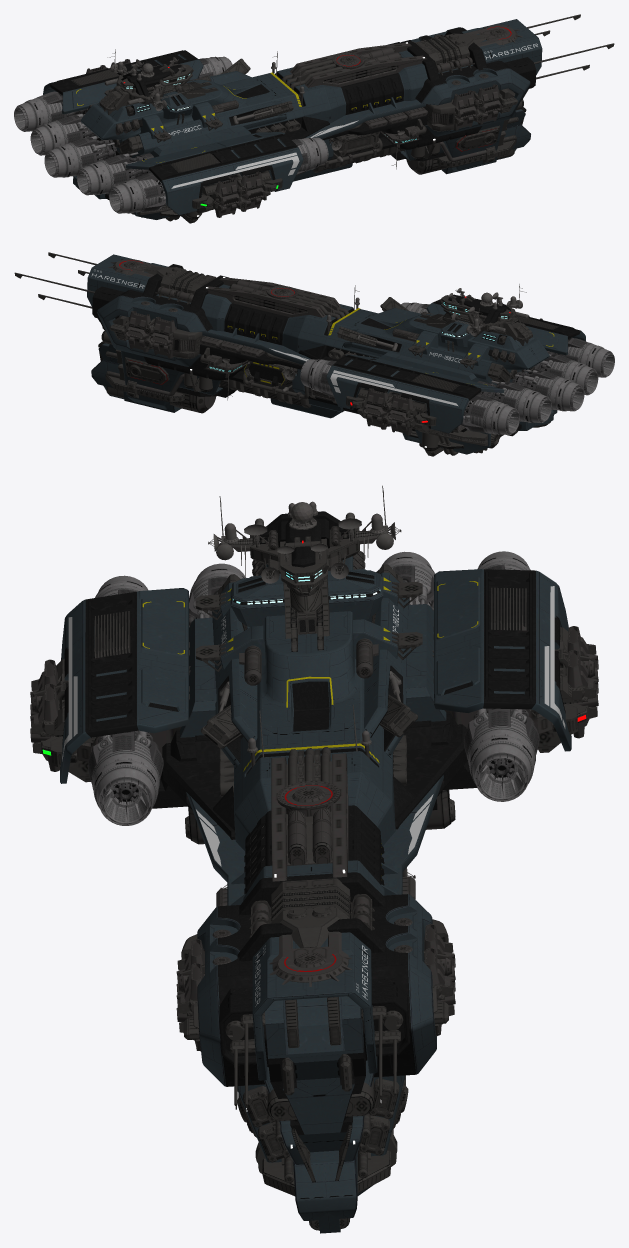
The model's file is harbinger-detail.glb.
3 renders of one model, top to bottom at view 1: azimuth 30°, elevation 25°; view 2: azimuth 150°, elevation 25°; view 3: azimuth 270°, elevation 25°, orthographic. The views are drawn at different scales.
Visible parts, largest first — view 1: harbinger; view 2: harbinger; view 3: harbinger.
Part boxes in pixels (x1,y1,x2,y2): harbinger: (14, 14, 614, 223); harbinger: (14, 252, 614, 456); harbinger: (30, 485, 598, 1233).
Size of the model in its own units: 120 by 39.69 by 53.93.
17 materials, 8 textured.
